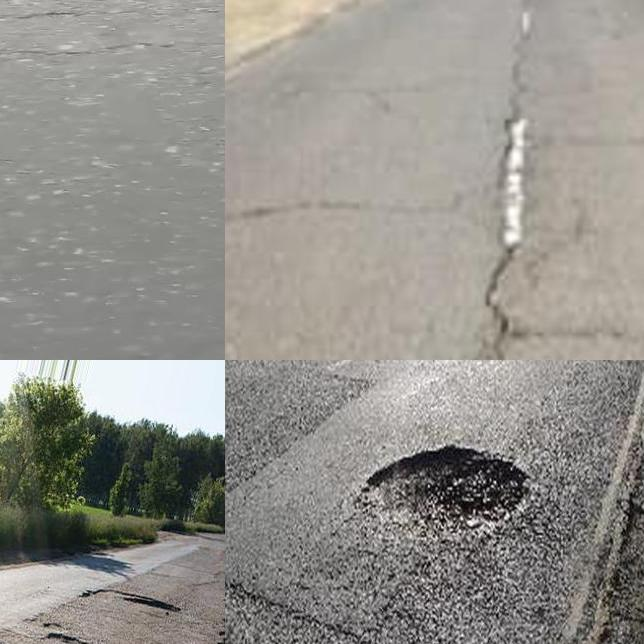Lubang: (370, 444, 534, 536)
Memanjang: (468, 52, 537, 360)
